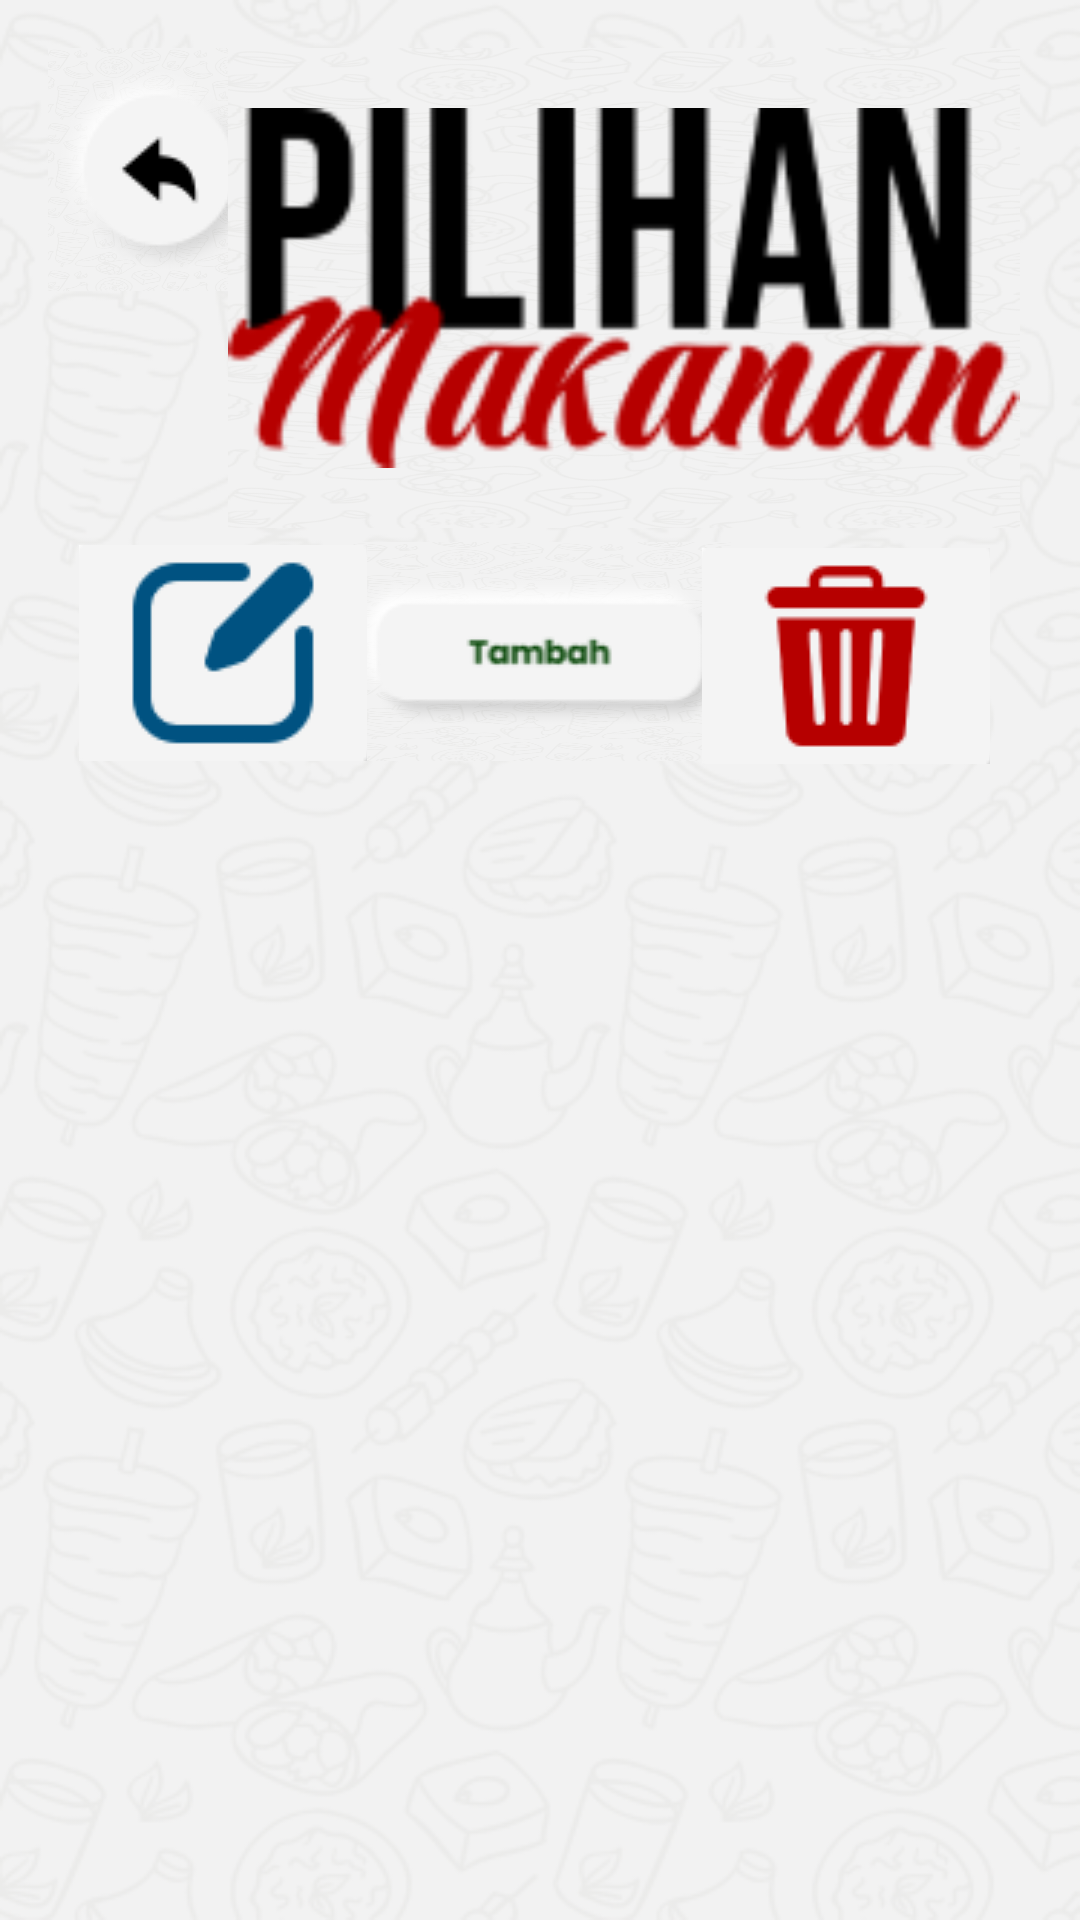

Where icons sit on this 1080px×1920px app screen, as (x1, y1, x2, y2):
buttondeletemenu: (764, 565, 990, 764)
buttoneditmenu: (132, 562, 367, 761)
